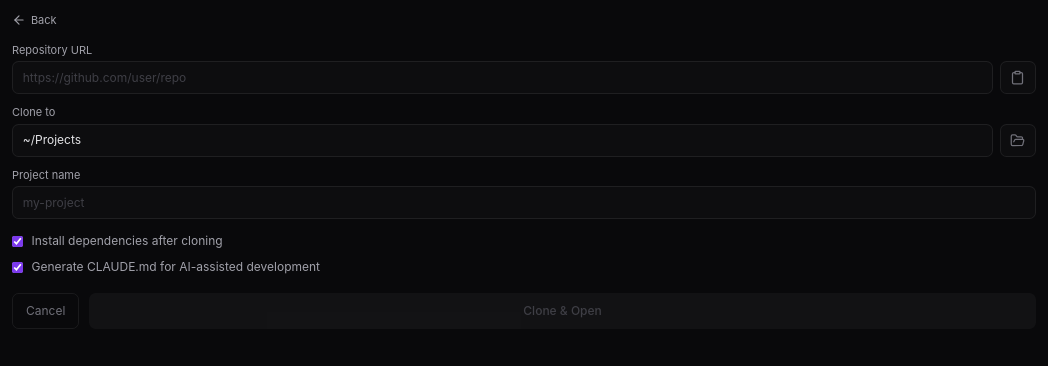
CloneForm › shows error when clone fails
In the field with placeholder "https://github.com/user/repo": (502, 78) [12, 61, 993, 94], type "https://github.com/user/repo.git"
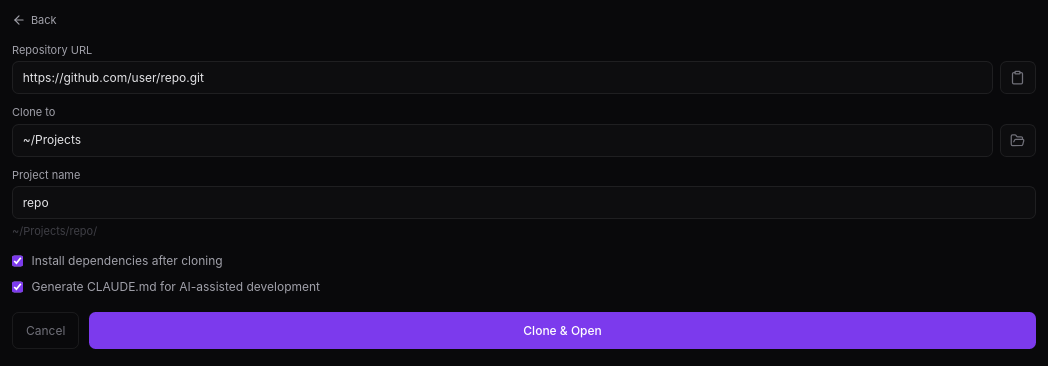
In the field with placeholder "~/Projects": (502, 140) [12, 124, 993, 157], type "/tmp"
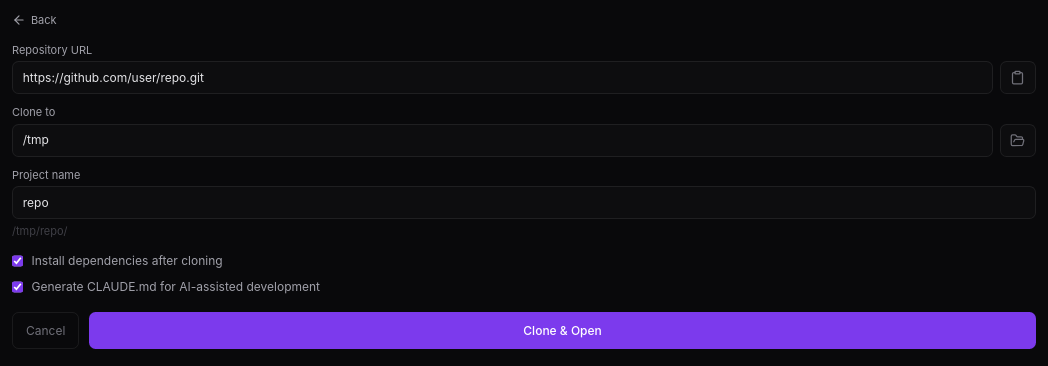
Click the button "Clone & Open": (563, 331) [89, 312, 1036, 349]
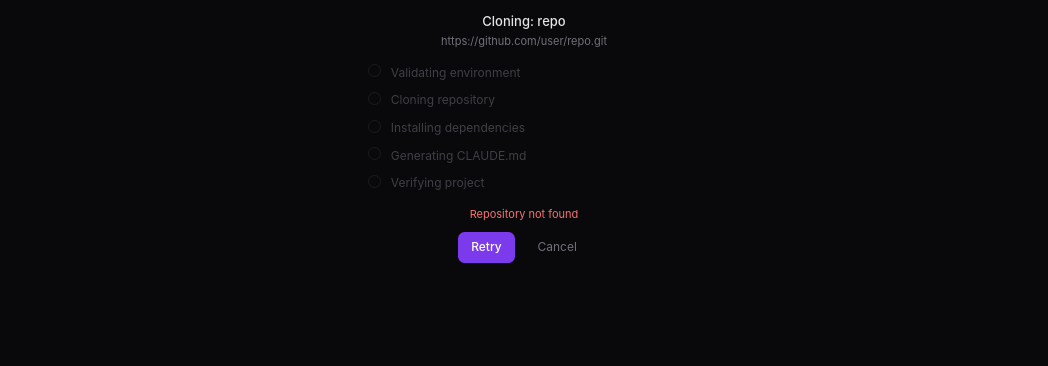
Expected: the text "Repository not found" is shown, [470, 206, 578, 222]
Expected: the button "Retry" is shown, [458, 232, 515, 263]
